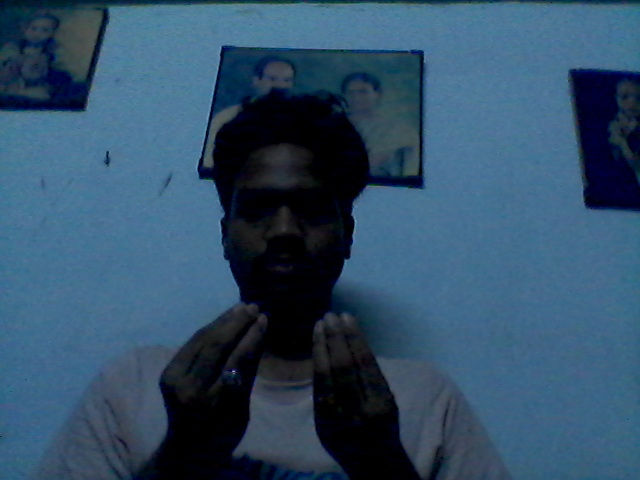Sorry: (147, 300, 416, 465)
